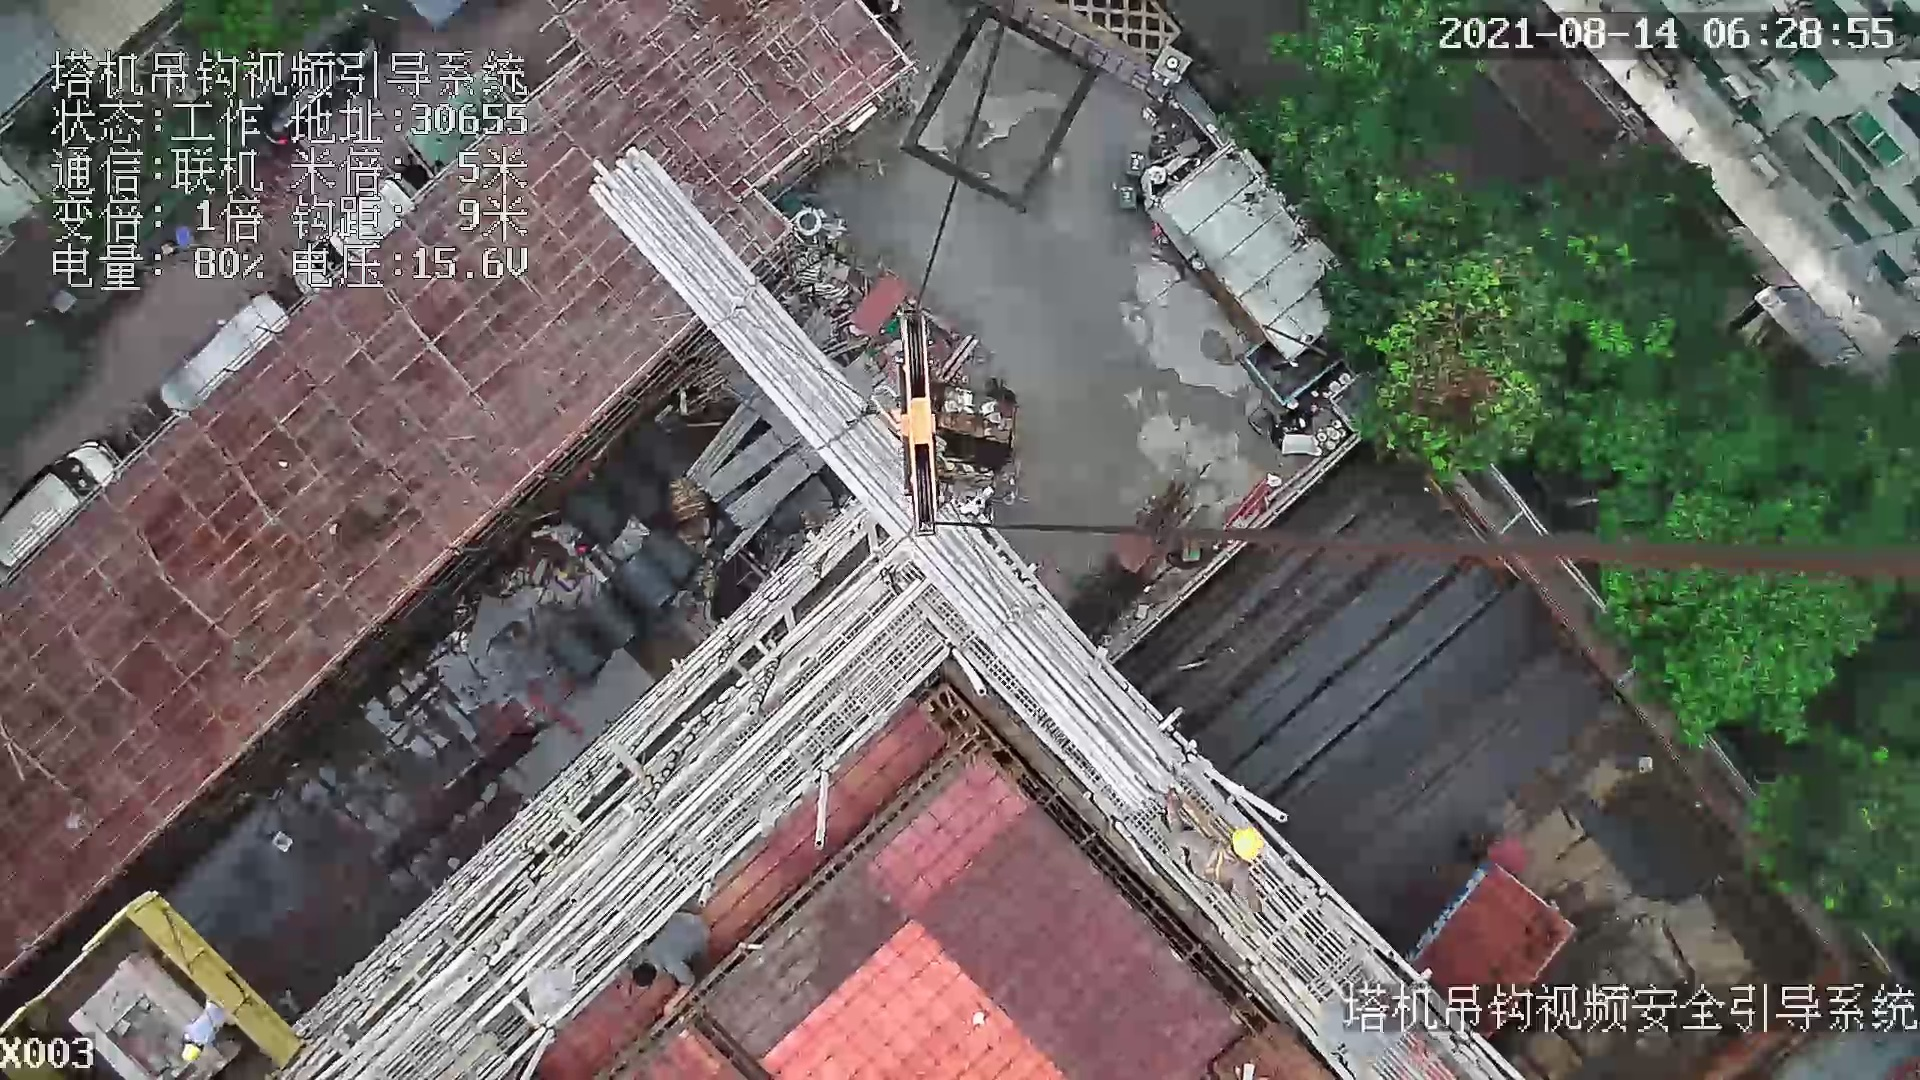helmet: (1236, 826, 1264, 868)
hook: (891, 310, 942, 538)
person: (1158, 796, 1264, 913)
rebar: (1151, 481, 1603, 851)
